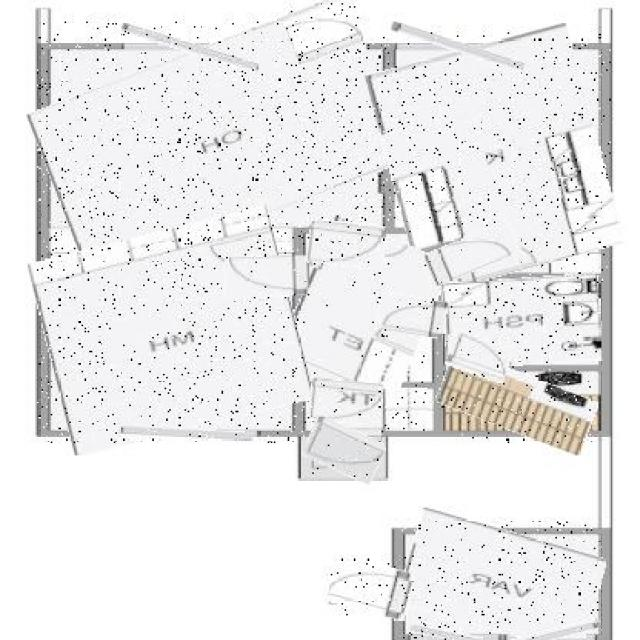door: (422, 229, 520, 280), (330, 558, 412, 616), (288, 3, 363, 66), (304, 423, 384, 479), (308, 222, 386, 268), (225, 257, 309, 297), (310, 379, 382, 423), (377, 294, 448, 337), (448, 334, 510, 380)
window: (391, 32, 526, 63), (120, 34, 260, 61), (119, 428, 252, 443), (496, 624, 598, 640), (410, 627, 495, 640)
zone: (37, 21, 392, 254), (37, 217, 305, 443), (378, 34, 611, 284), (291, 224, 440, 390), (402, 520, 602, 640), (443, 277, 602, 366), (438, 362, 596, 443), (304, 389, 428, 431)
